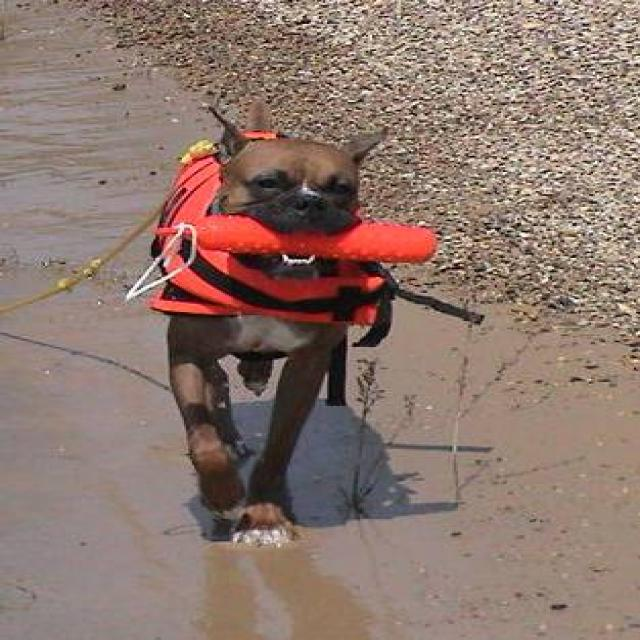dog: (147, 97, 389, 545)
